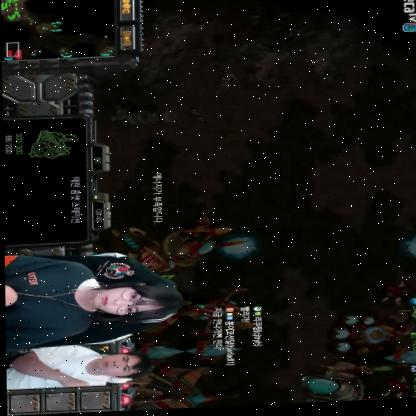streamer: (3, 250, 184, 354), (5, 343, 153, 390)
